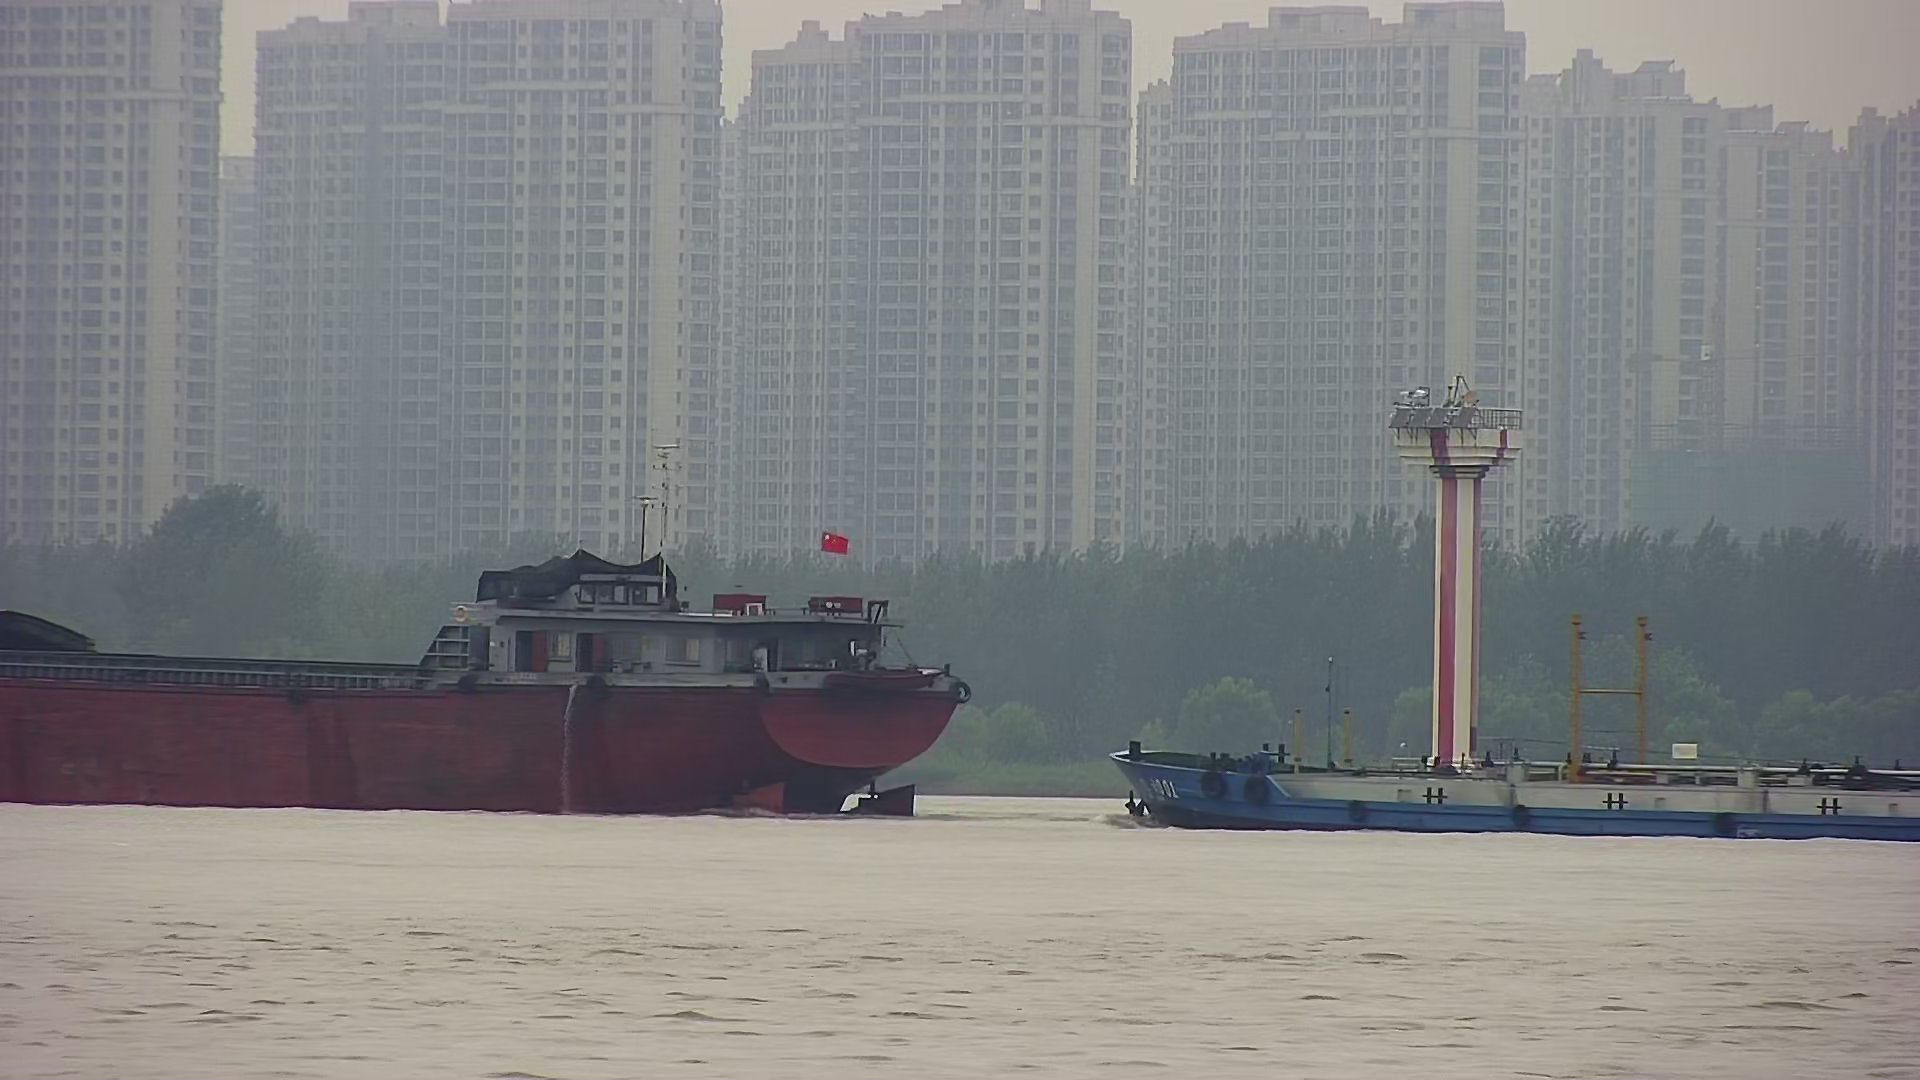platform: (1386, 369, 1524, 843)
ship: (4, 460, 972, 823), (1112, 608, 1920, 847)
